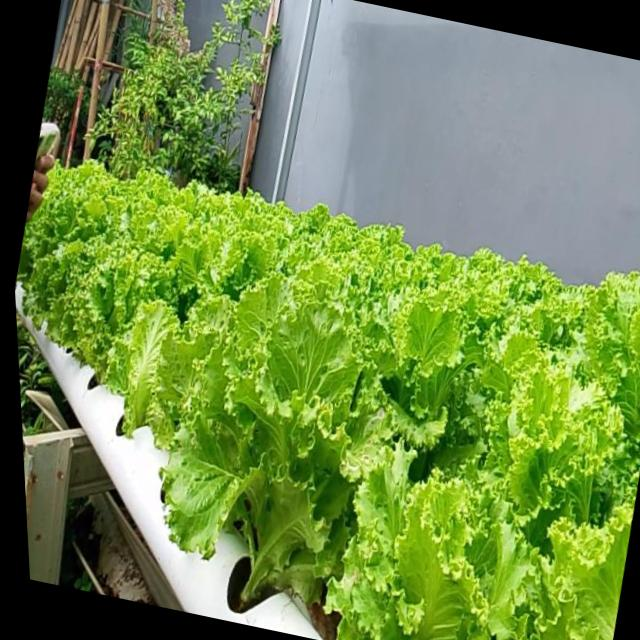Mature: (15, 159, 640, 640), (163, 291, 380, 620), (50, 243, 164, 408)
